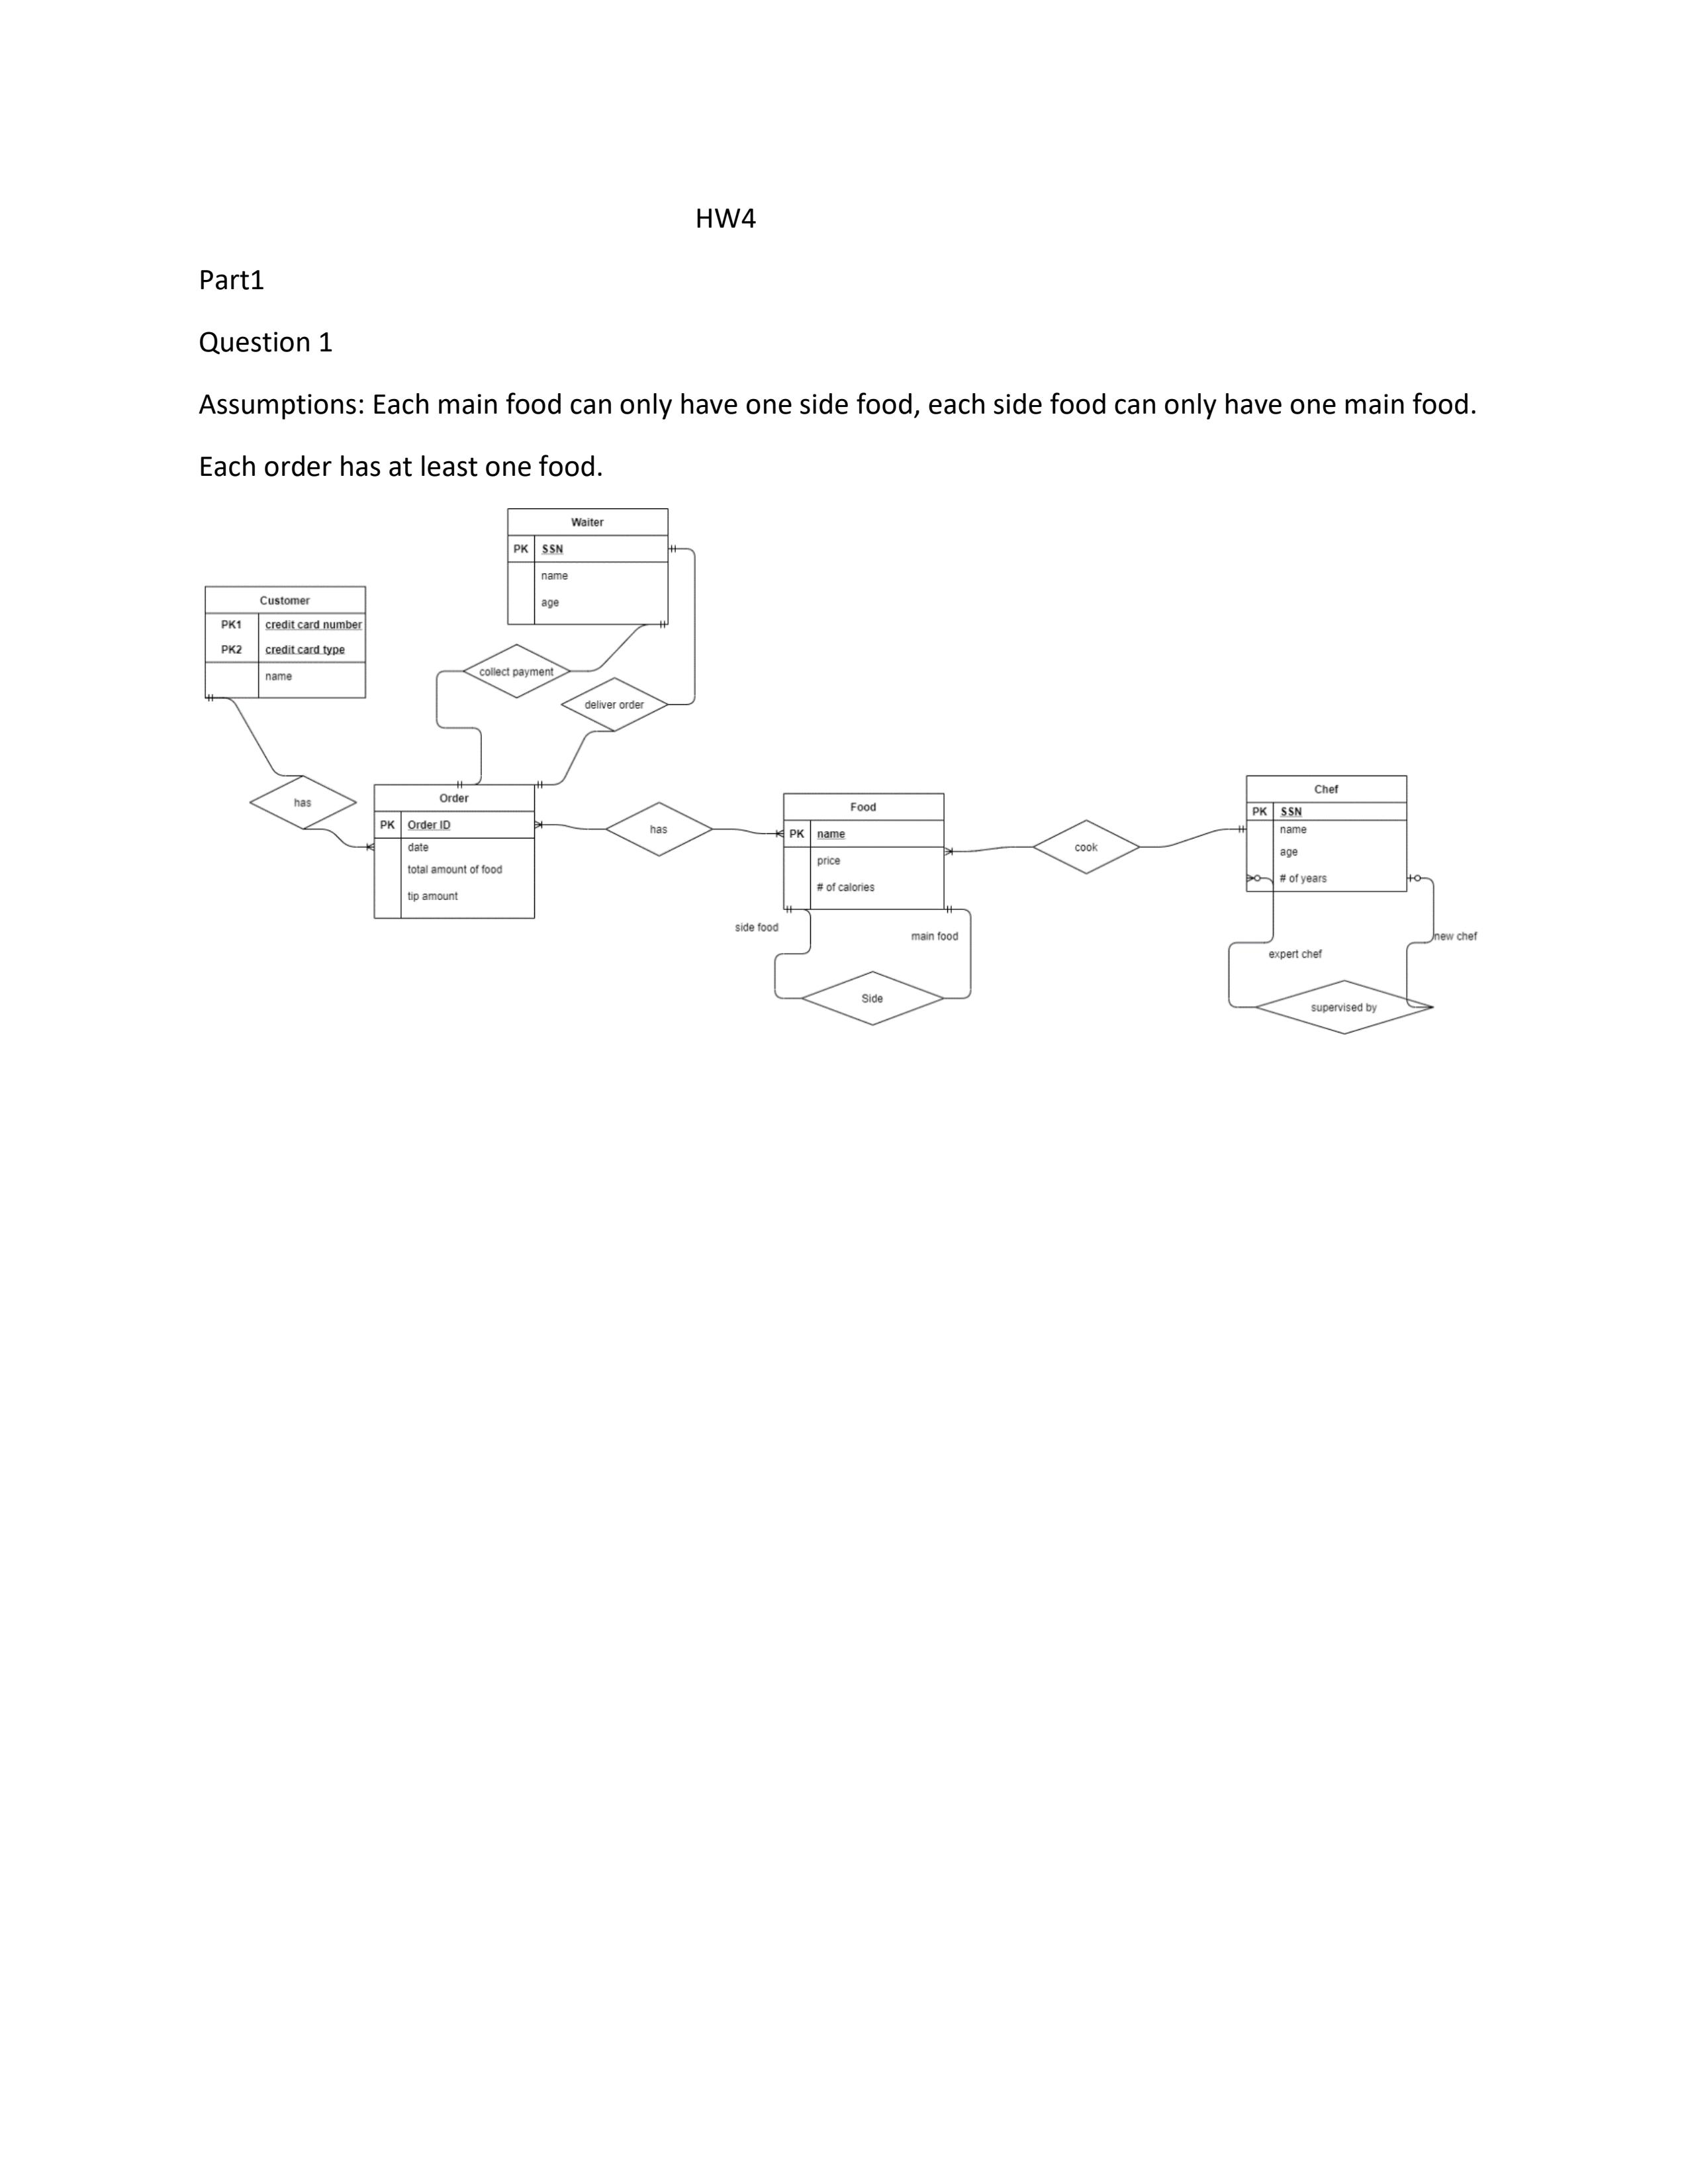Entity: (372, 784, 537, 920), (782, 792, 945, 911), (1245, 775, 1408, 893), (507, 507, 668, 626), (204, 585, 367, 700)
Relationship: (1255, 980, 1434, 1033), (801, 970, 945, 1025), (560, 677, 668, 732), (605, 801, 713, 856), (463, 643, 571, 697), (248, 776, 356, 830), (1032, 821, 1140, 874)
